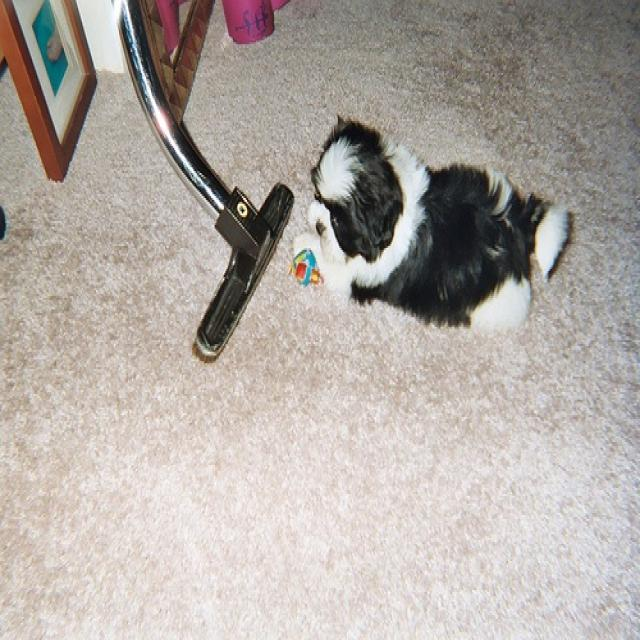dog: (293, 115, 571, 332)
